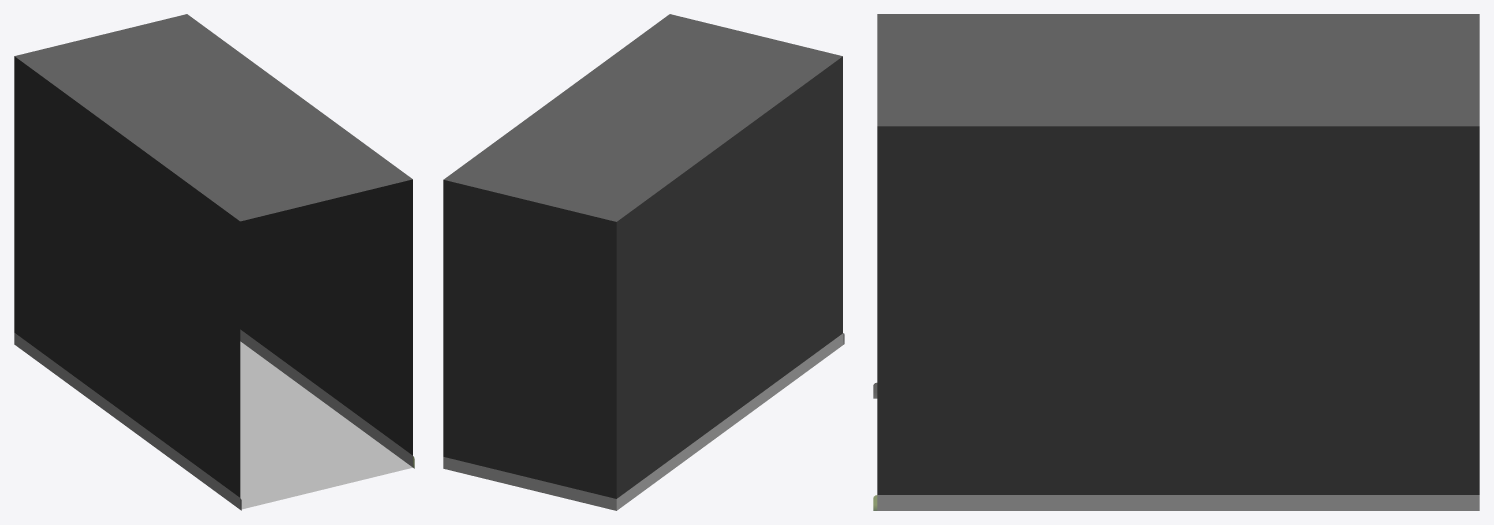
File: screenroomEndHallway.fbx
3 views of the same model, side by side, from view 1: azimuth 30°, elevation 25°; view 2: azimuth 150°, elevation 25°; view 3: azimuth 270°, elevation 25° (orthographic). The views are drawn at different scales.
Parts seen in each view (by area): view 1: screenRoomEndHallway; view 2: screenRoomEndHallway; view 3: screenRoomEndHallway.
Boxes of the visible parts, <box> form: screenRoomEndHallway: <box>14,14,414,510</box>; screenRoomEndHallway: <box>443,14,844,510</box>; screenRoomEndHallway: <box>873,14,1479,510</box>.
Bounding box in the file's own units: 99.85 × 159 × 228.
